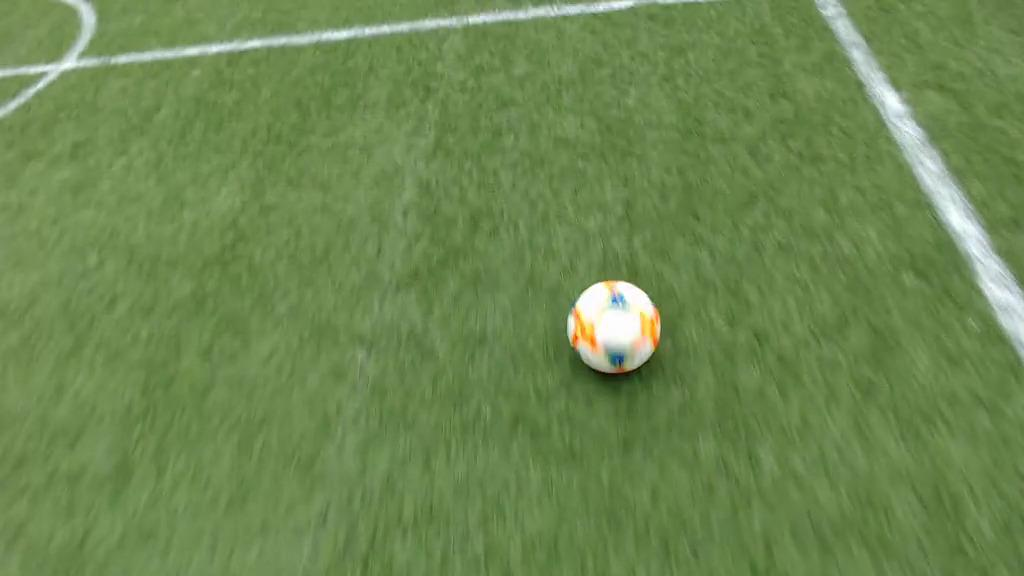ball: (567, 281, 660, 374)
